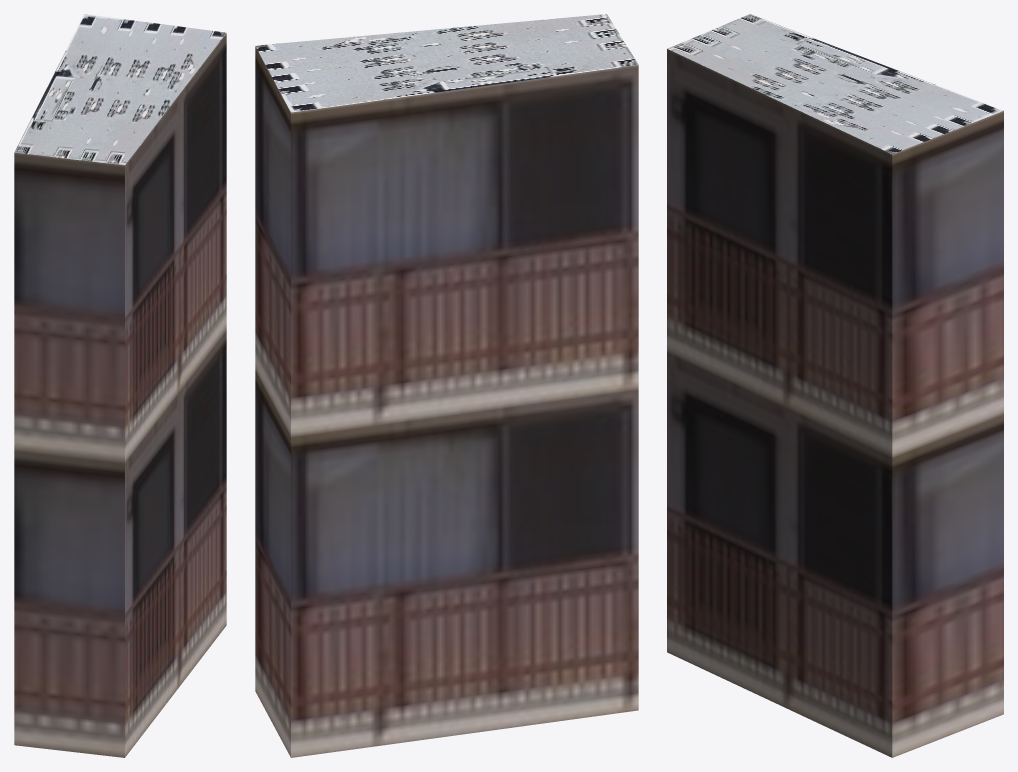
Rendered from ResTex__4304.fbx.
3 renders of one model, left to right at view 1: azimuth 30°, elevation 25°; view 2: azimuth 150°, elevation 25°; view 3: azimuth 270°, elevation 25°, orthographic. The views are drawn at different scales.
Visible parts, largest first — view 1: CityEngineMaterial_6_m, CityEngineMaterial_m; view 2: CityEngineMaterial_6_m, CityEngineMaterial_m; view 3: CityEngineMaterial_6_m, CityEngineMaterial_m.
Part boxes in pixels (box(x1,y1,x2,y2)): CityEngineMaterial_6_m: box(14, 33, 226, 757); CityEngineMaterial_m: box(14, 14, 226, 165); CityEngineMaterial_6_m: box(255, 46, 638, 757); CityEngineMaterial_m: box(255, 14, 638, 112); CityEngineMaterial_6_m: box(667, 49, 1003, 757); CityEngineMaterial_m: box(667, 14, 1003, 154).
Size of the model in its own units: 2.99 by 6 by 3.03.
Materials: 2 (2 with a texture image).
